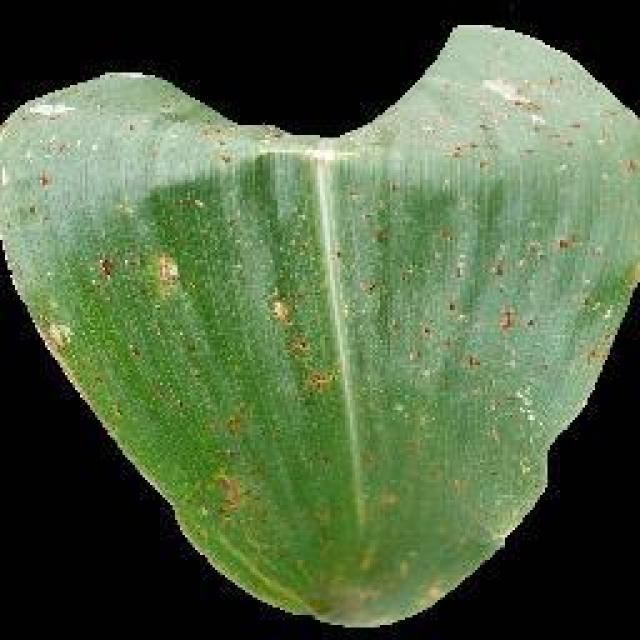Corn Common Rust: (45, 80, 613, 440)
